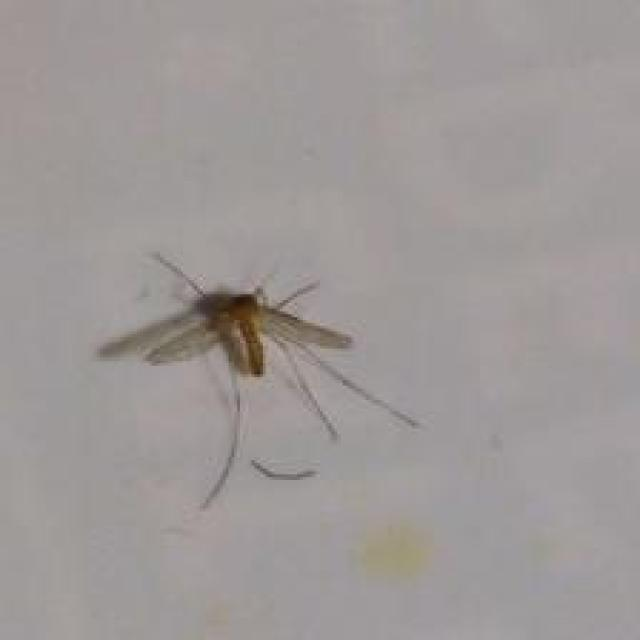Culex: (96, 248, 421, 512)
